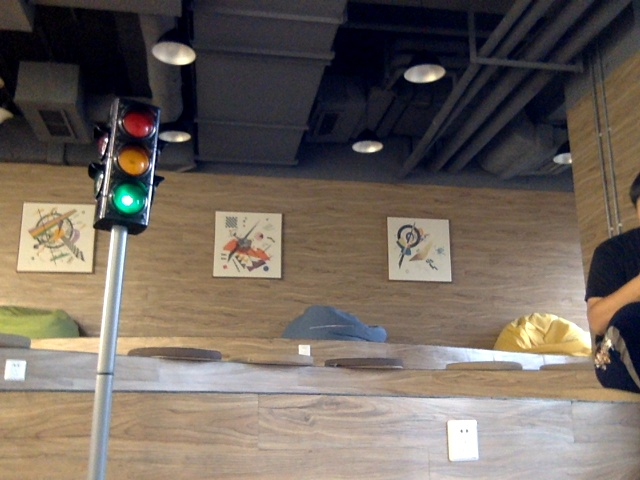green: (111, 104, 147, 217)
